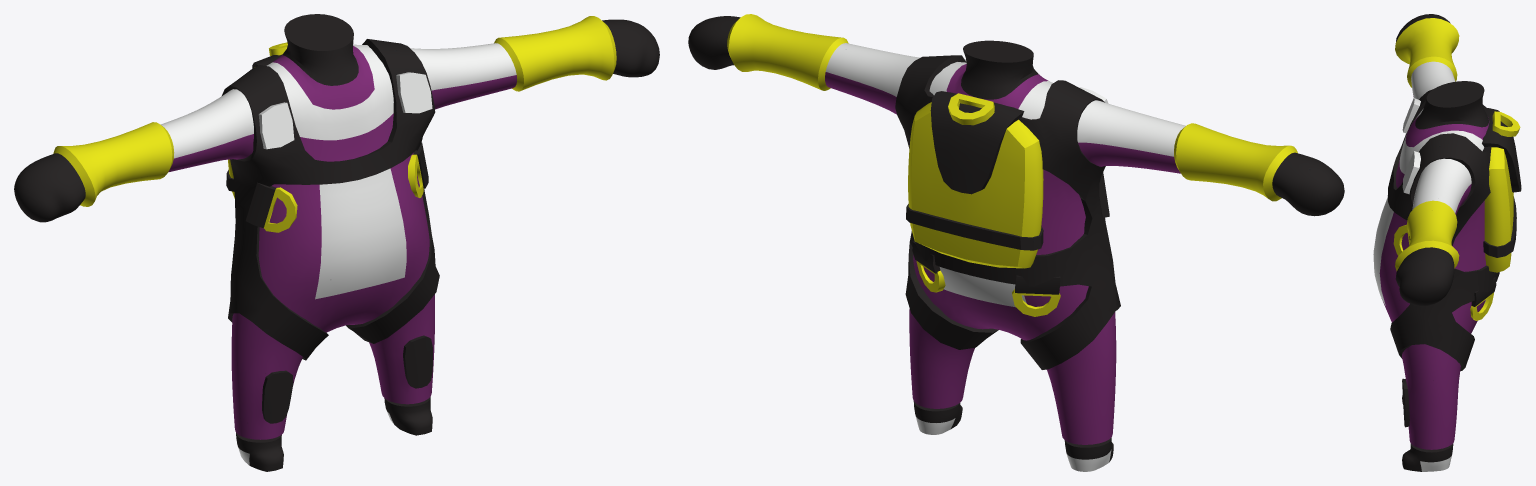
The model's file is 30连身裤.fbx.
3 renders of one model, left to right at view 1: azimuth 30°, elevation 25°; view 2: azimuth 150°, elevation 25°; view 3: azimuth 270°, elevation 25°, orthographic. The views are drawn at different scales.
Visible parts, largest first — view 1: 30连身裤; view 2: 30连身裤; view 3: 30连身裤.
Part boxes in pixels (bbox=[...]): 30连身裤: bbox=[14, 14, 659, 471]; 30连身裤: bbox=[688, 14, 1344, 471]; 30连身裤: bbox=[1373, 14, 1521, 471].
Bounding box in the file's own units: 1.98 × 1.2 × 0.466.
